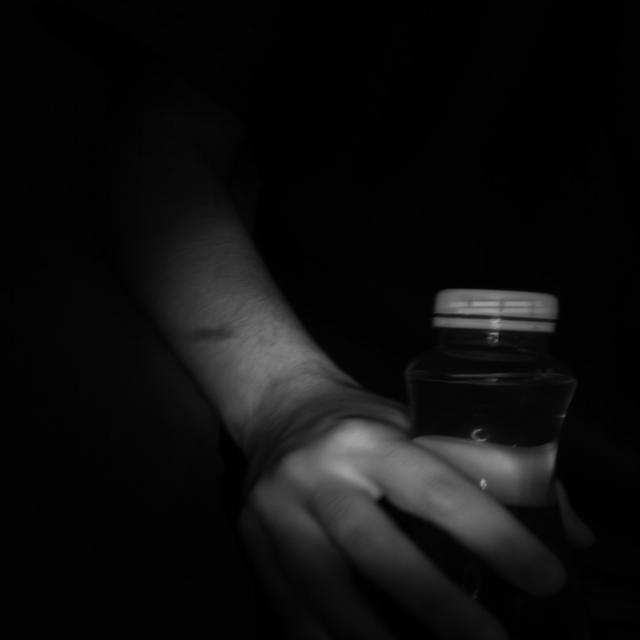Not Good: (436, 288, 557, 333)
